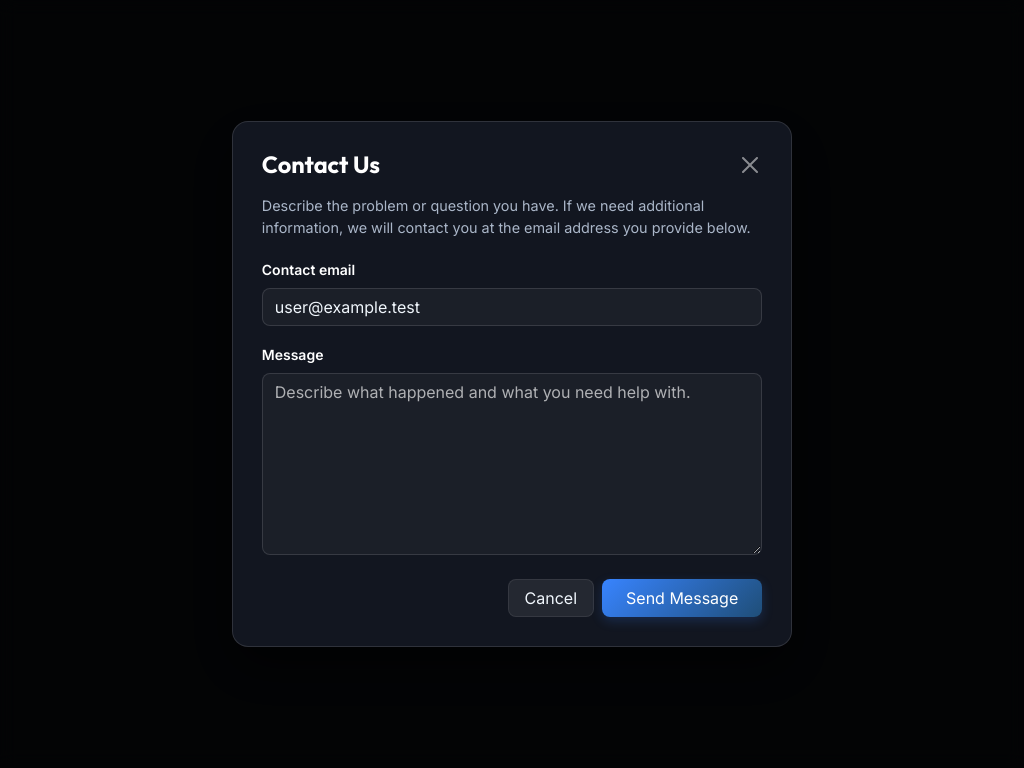
Test: rapid repeated submissions send one contact request
Type "Please help with my portfolio record." into the text box labelled "Message" at {"x": 512, "y": 464}, box [262,373,762,555]
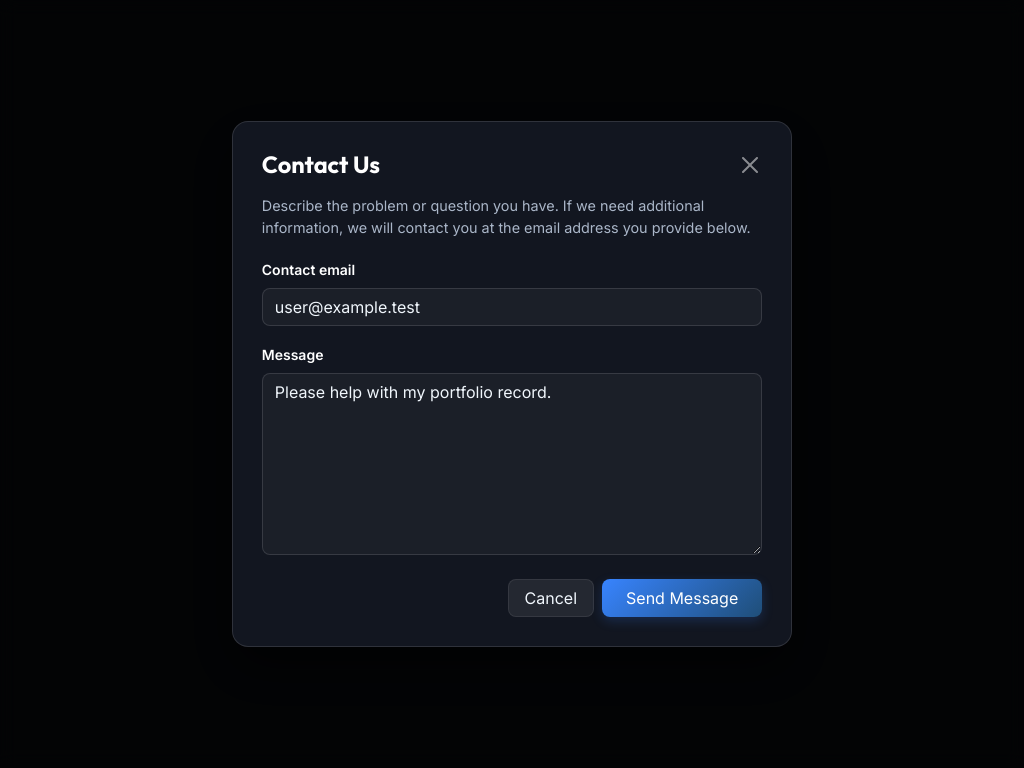
Submit the form labelled "Message", box [262,257,762,617]
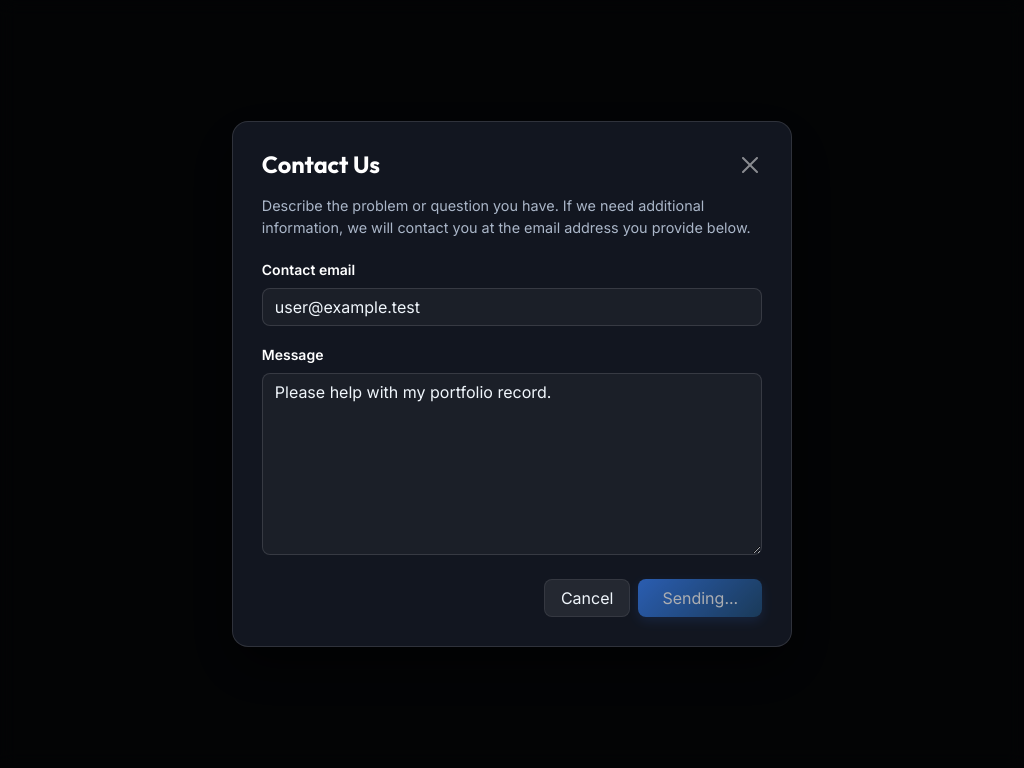
Submit the form labelled "Message", box [262,257,762,617]
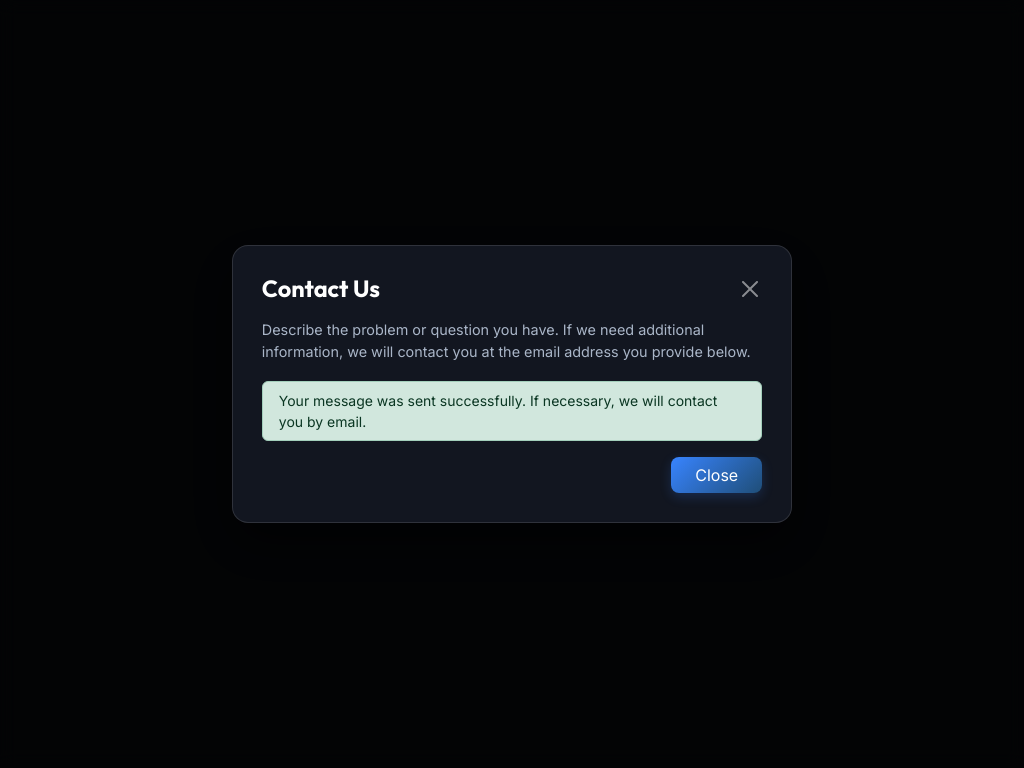
Now the text "Your message was sent successfully" is shown, box [279,392,717,430]
